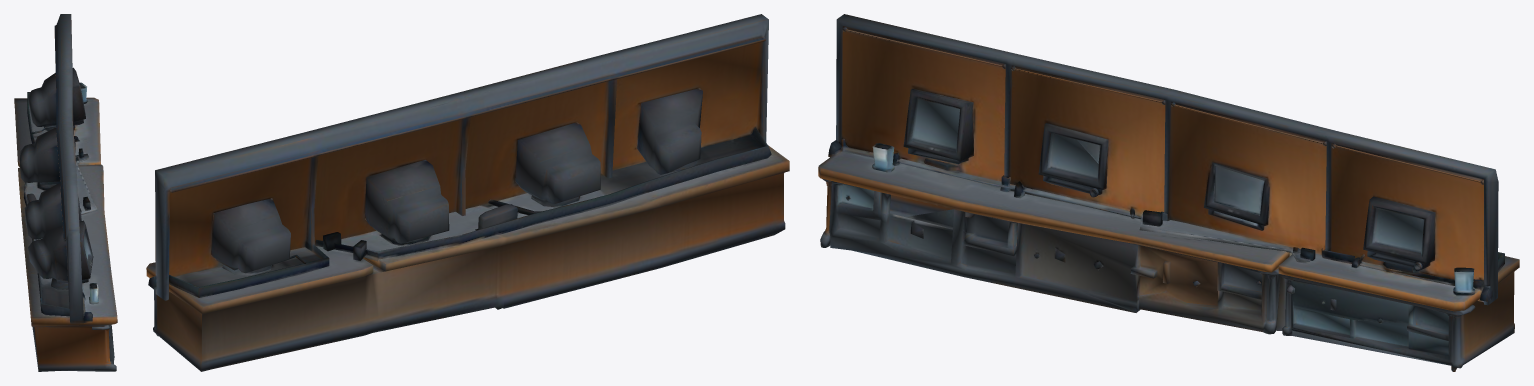
File: Bank_ReceptionDesk.glb
3 renders of one model, left to right at view 1: azimuth 30°, elevation 25°; view 2: azimuth 150°, elevation 25°; view 3: azimuth 270°, elevation 25°, orthographic. The views are drawn at different scales.
Visible parts, largest first — view 1: tripo_node_5d8480af-9ae8-4c5f-a327-ca608c527dbf; view 2: tripo_node_5d8480af-9ae8-4c5f-a327-ca608c527dbf; view 3: tripo_node_5d8480af-9ae8-4c5f-a327-ca608c527dbf.
Boxes of the visible parts, x1,y1,x2,y2 form: tripo_node_5d8480af-9ae8-4c5f-a327-ca608c527dbf: [14, 14, 117, 371]; tripo_node_5d8480af-9ae8-4c5f-a327-ca608c527dbf: [146, 14, 789, 371]; tripo_node_5d8480af-9ae8-4c5f-a327-ca608c527dbf: [818, 14, 1519, 371].
Bounding box in the file's own units: 0.6356 × 0.3288 × 1.
1 material, 1 textured.
